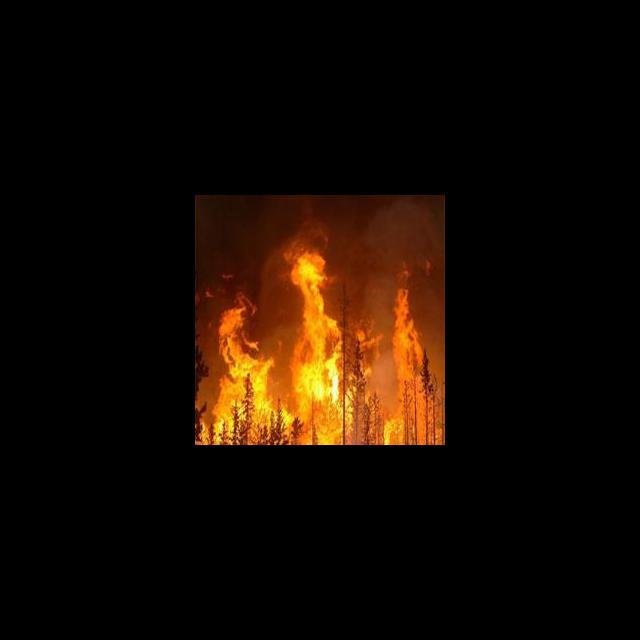Fire: (198, 252, 444, 445)
